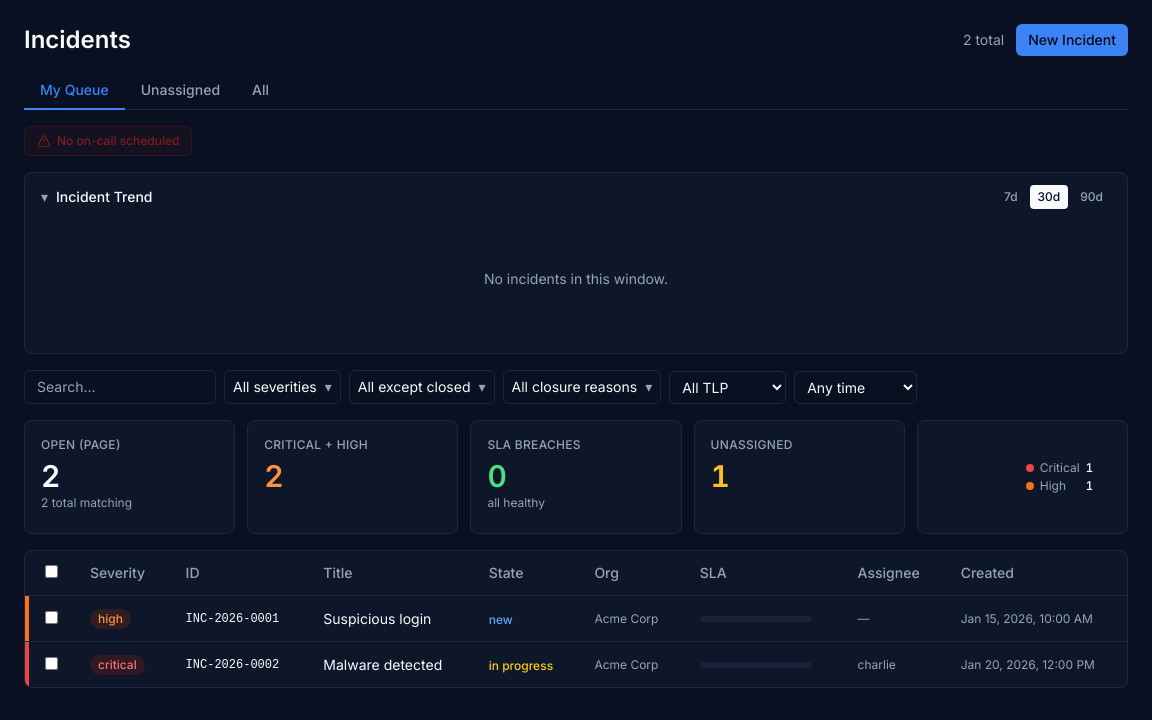
Scenario: IncidentList › selecting a checkbox renders the toolbar with correct count
Click the checkbox named "Select INC-2026-0001" at (52, 617), box [45,610,58,624]
(page scrolled)
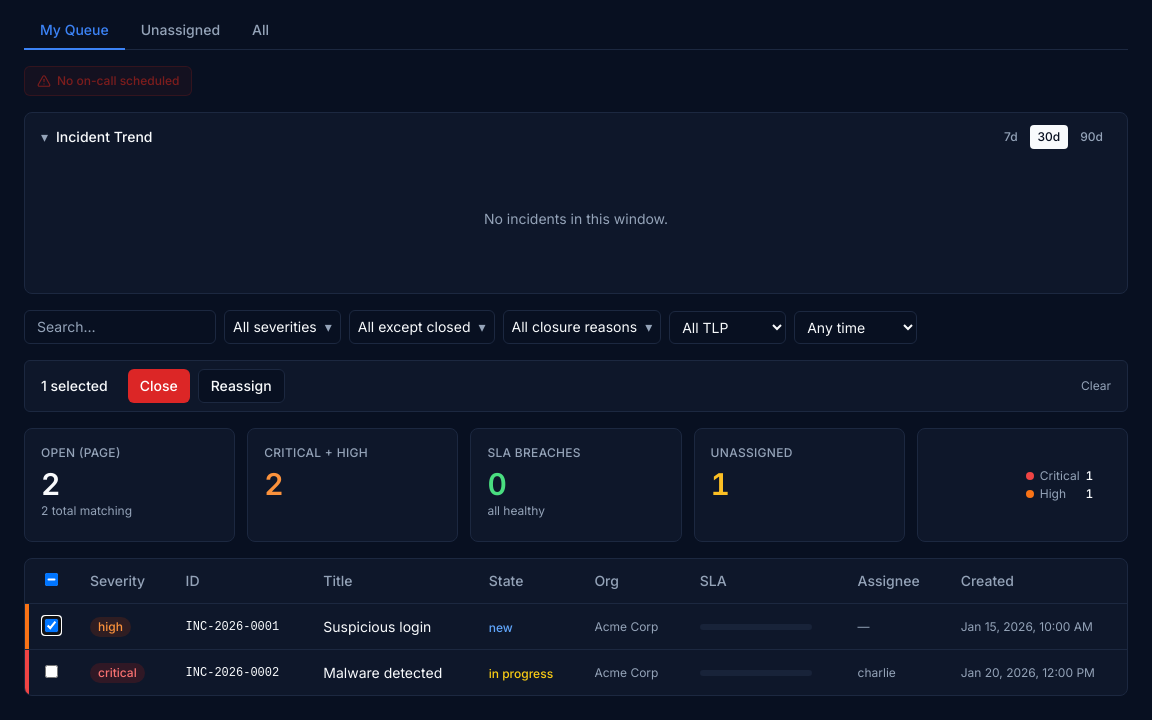
expect the text "1 selected" is shown: met, box [41,376,108,396]
Click the checkbox named "Select INC-2026-0002" at (52, 671), box [45,664,58,678]
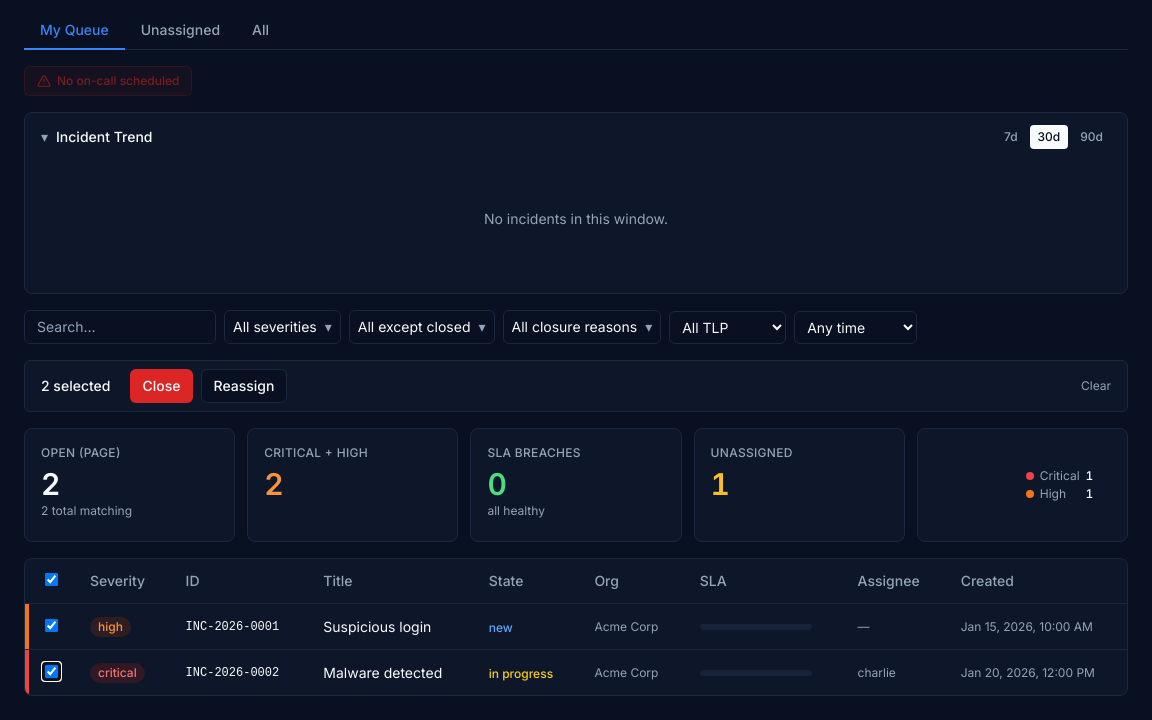
expect the text "2 selected" is shown: met, box [41,376,110,396]
